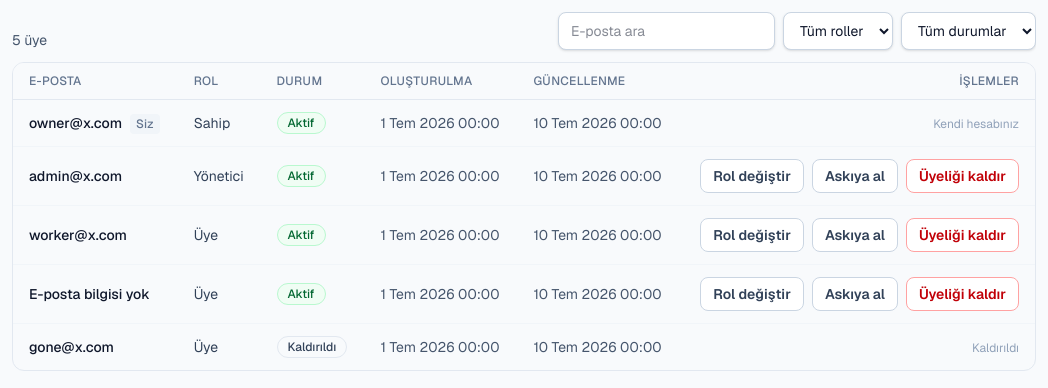
Test case: MemberList › rol filtresi listeyi daraltır
This screenshot has width=1048, height=388.
Select "Yönetici" in the 1st dropdown named "Role göre filtrele" at coordinates (838, 31), box [783,12,893,50]
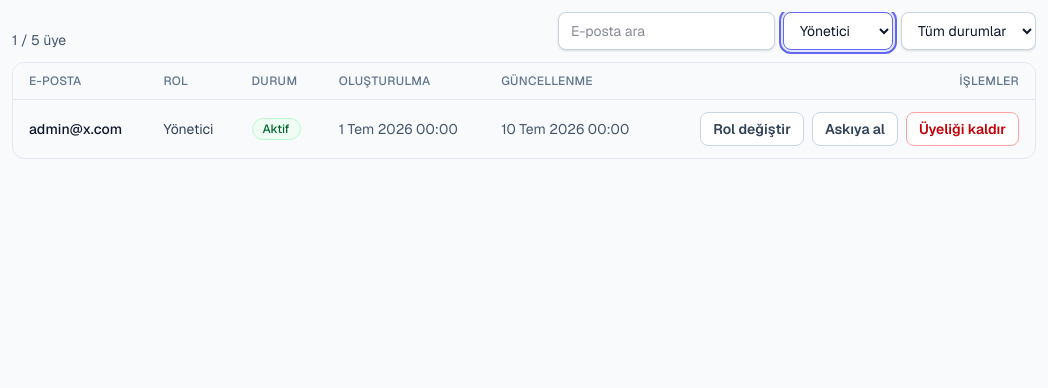
expect the text "admin@x.com" is shown: met, box [13,100,148,158]
expect the text "worker@x.com" is gone: met
expect the text "1 / 5 üye" is shown: met, box [12,30,66,50]
